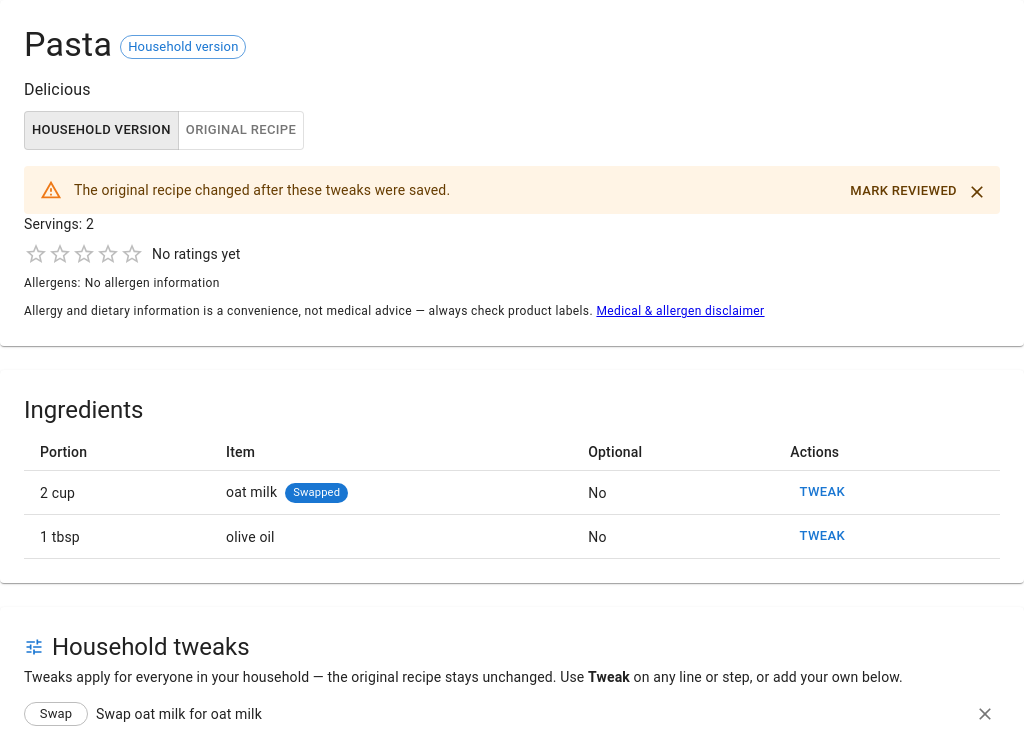
Test case: recipe detail — household delta › dismisses the stale banner without acknowledging
Check: the text "The original recipe changed after these tweaks were saved." is shown, box x1=74 y1=182 x2=450 y2=198
Click the button named "Dismiss". click: {"x": 977, "y": 192}
box: x1=962 y1=177 x2=992 y2=207
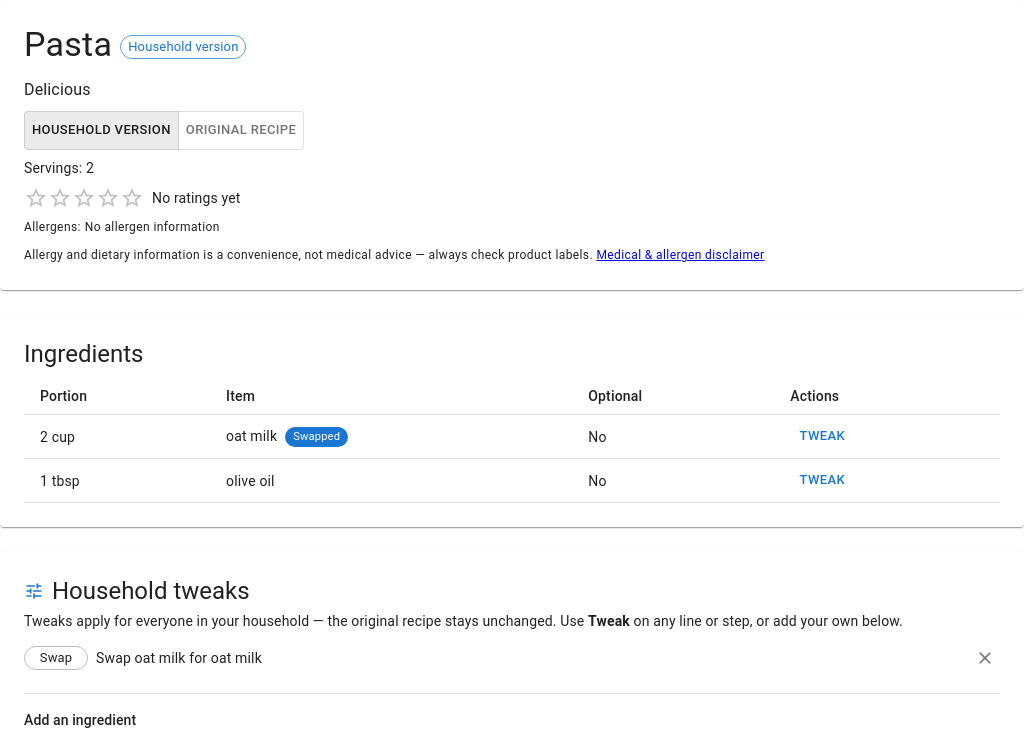
Check: the text "original recipe changed after these tweaks" is gone
